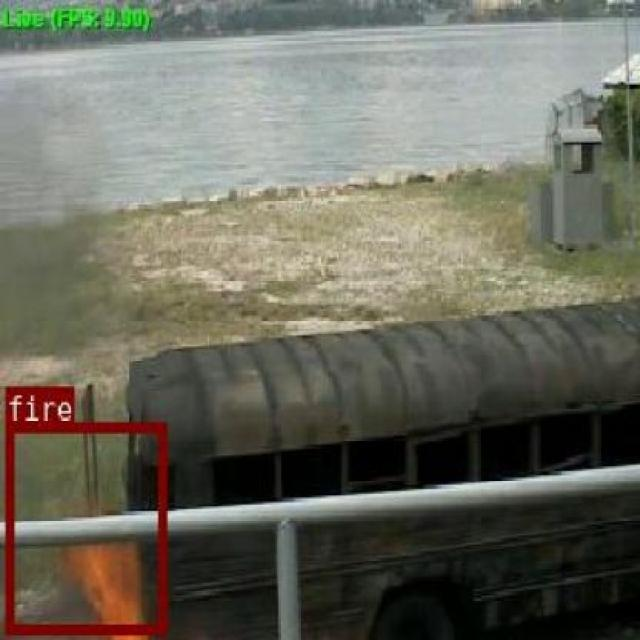fire: (5, 420, 166, 632)
